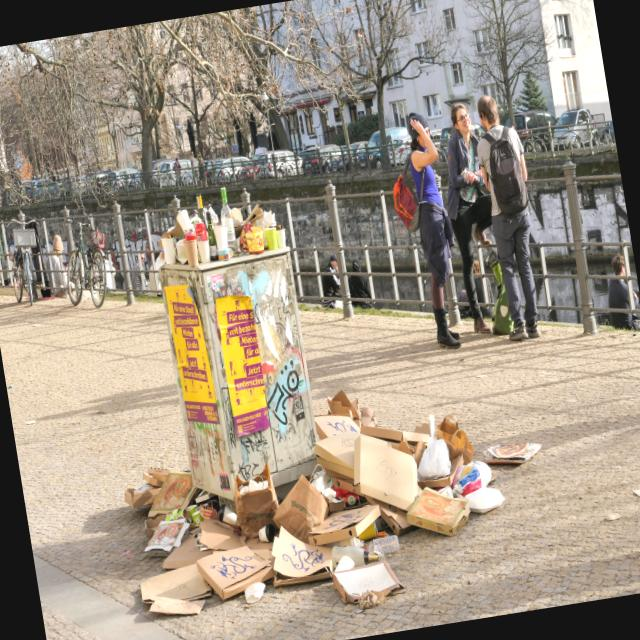garbage: (50, 158, 549, 640)
